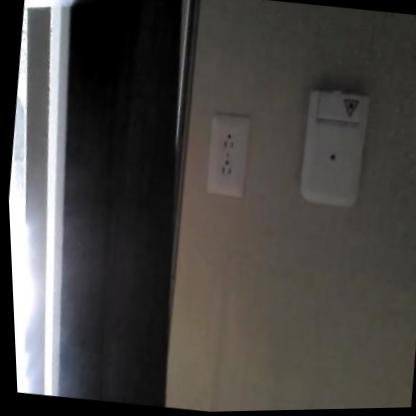OUTLET: (200, 110, 254, 199)
